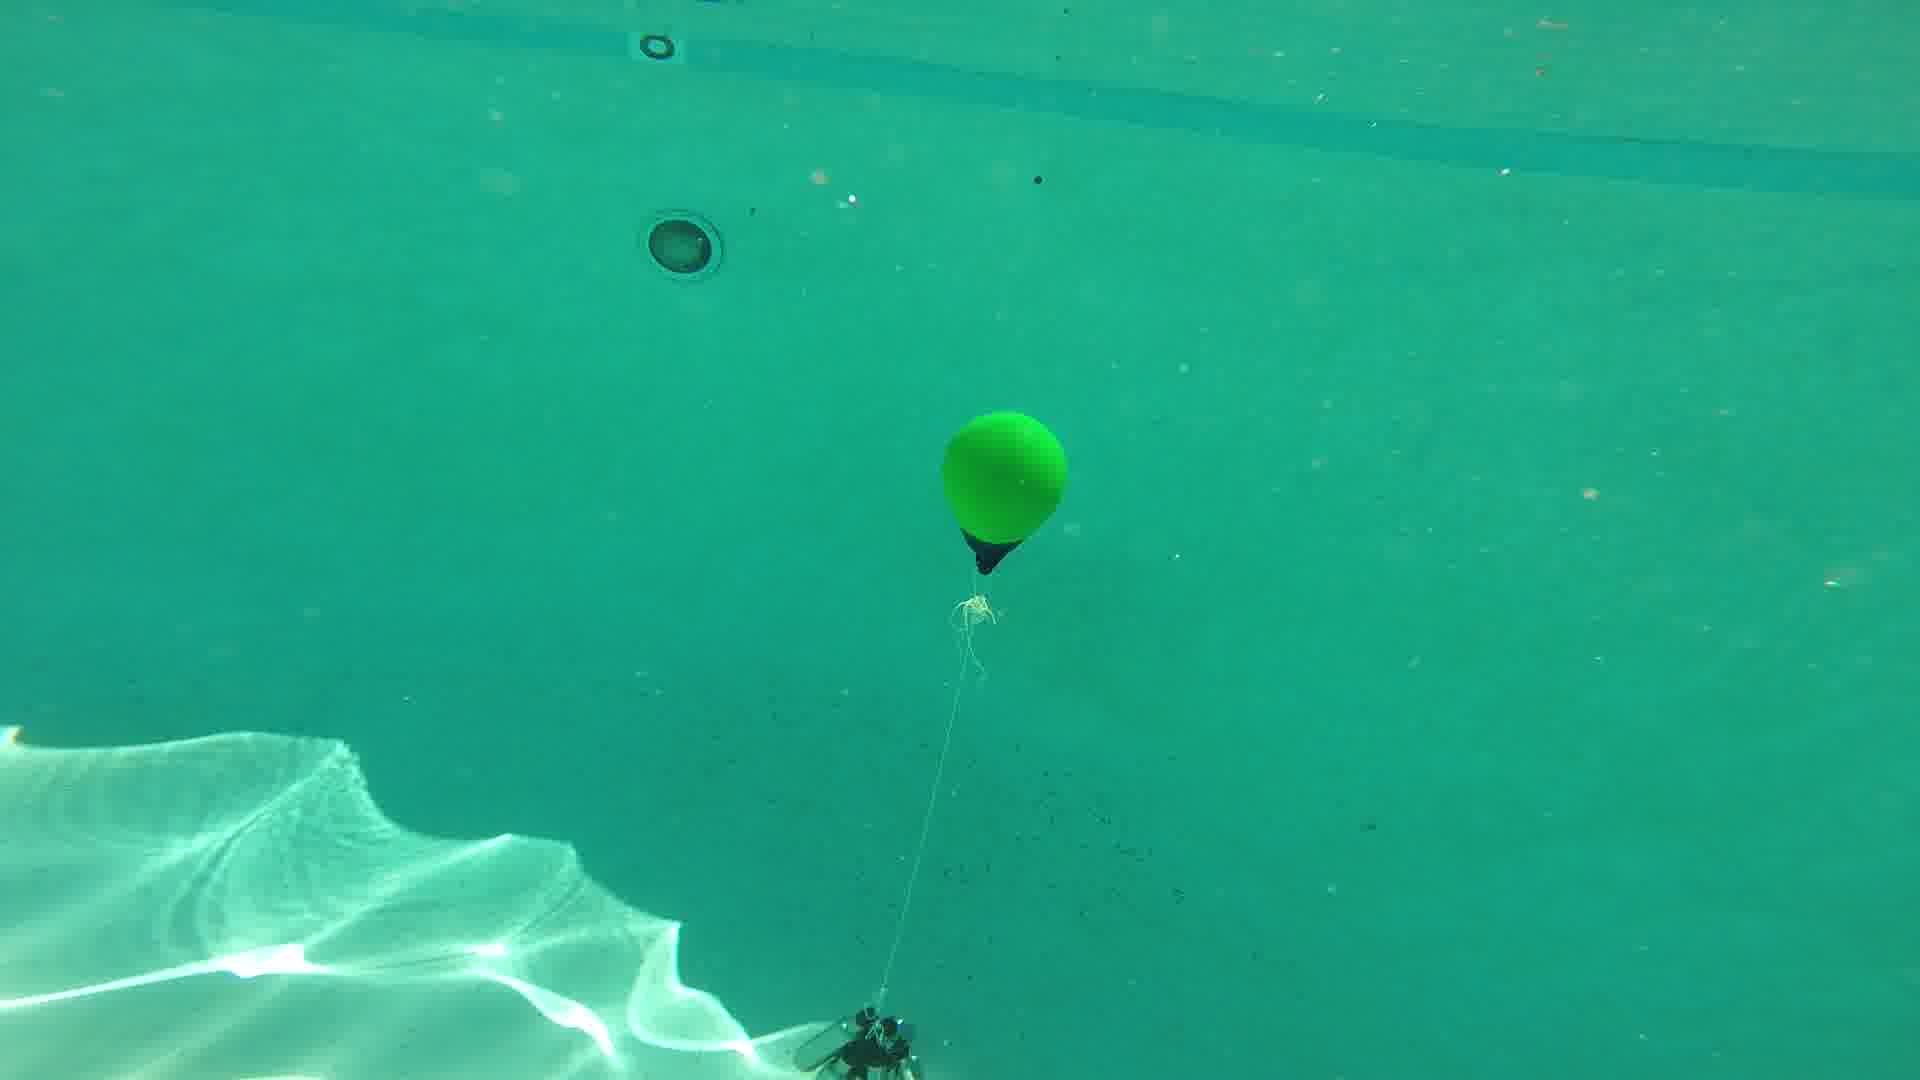yellow_buoy: (942, 407, 1068, 580)
